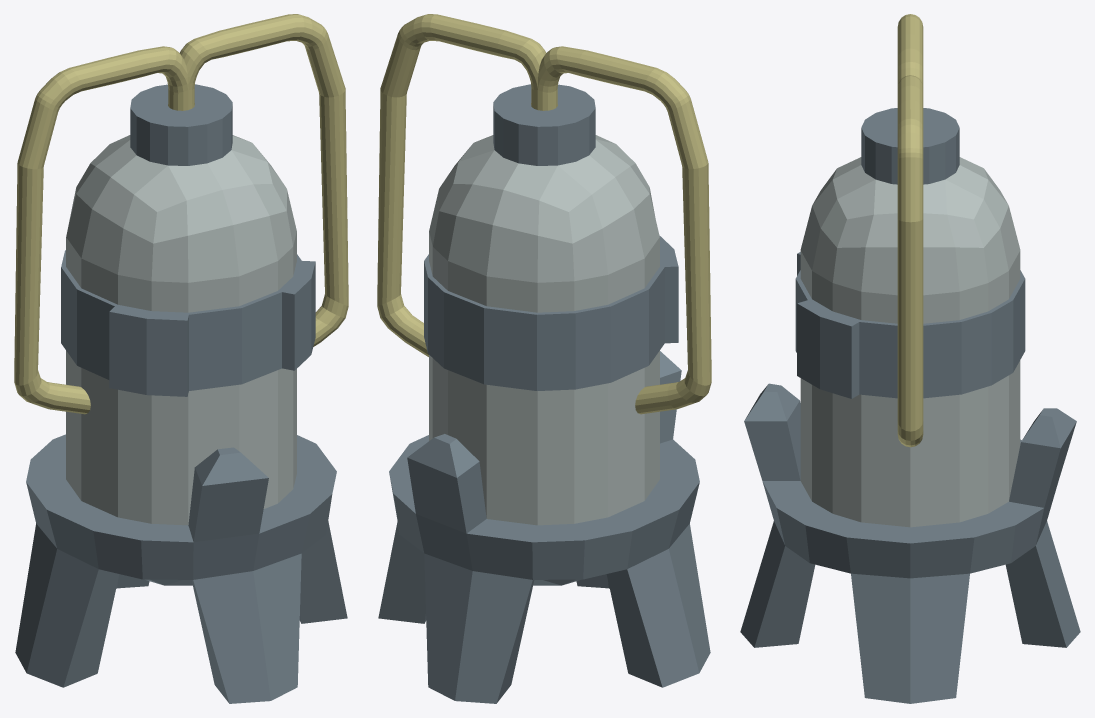
File: Tanks_1_Yellow 2.fbx
3 renders of one model, left to right at view 1: azimuth 30°, elevation 25°; view 2: azimuth 150°, elevation 25°; view 3: azimuth 270°, elevation 25°, orthographic. The views are drawn at different scales.
Parts seen in each view (by area): view 1: ReservoirTank.001; view 2: ReservoirTank.001; view 3: ReservoirTank.001.
Boxes of the visible parts, left/top/right/bottom form: ReservoirTank.001: left=14, top=14, right=348, bottom=703; ReservoirTank.001: left=377, top=14, right=711, bottom=703; ReservoirTank.001: left=740, top=14, right=1080, bottom=703.
Size of the model in its own units: 435 by 747 by 408.
